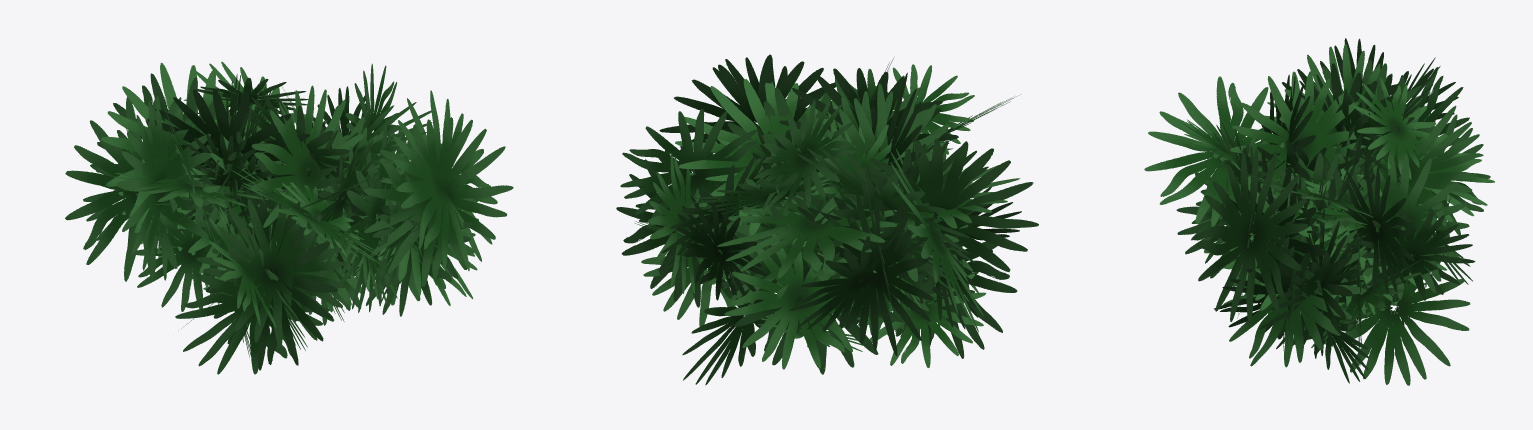
Rendered from Busch01.fbx.
The picture shows the model from 3 angles, left to right: view 1: azimuth 30°, elevation 25°; view 2: azimuth 150°, elevation 25°; view 3: azimuth 270°, elevation 25°; orthographic projection. The views are drawn at different scales.
Visible parts, largest first — view 1: Busch01; view 2: Busch01; view 3: Busch01.
Boxes of the visible parts, left/top/right/bottom form: Busch01: left=65, top=61, right=513, bottom=374; Busch01: left=616, top=54, right=1038, bottom=385; Busch01: left=1144, top=38, right=1494, bottom=385.
Size of the model in its own units: 200 by 147 by 168.
Materials: 1 (1 with a texture image).
